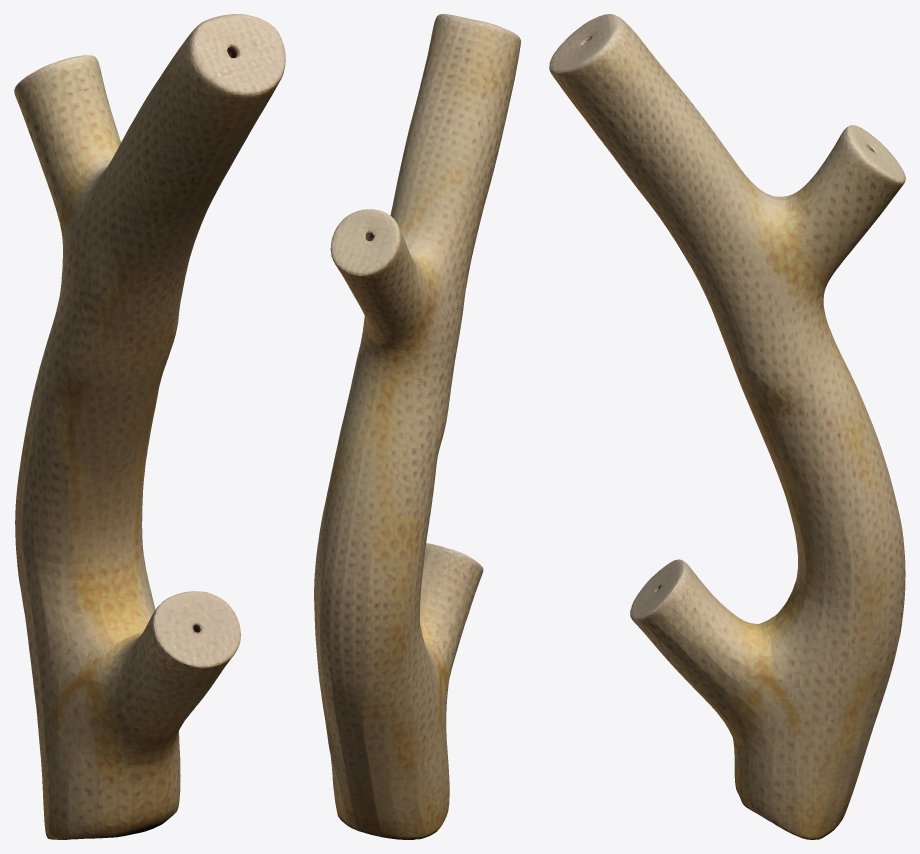
3 views of the same model, side by side, from view 1: azimuth 30°, elevation 25°; view 2: azimuth 150°, elevation 25°; view 3: azimuth 270°, elevation 25° (orthographic). The views are drawn at different scales.
Parts seen in each view (by area): view 1: world; view 2: world; view 3: world.
Part boxes in pixels (x1=…): world: x1=14, y1=14, x2=285, y2=839; world: x1=314, y1=14, x2=520, y2=839; world: x1=549, y1=14, x2=905, y2=839.
Bounding box in the file's own units: 0.1437 × 0.9964 × 0.4022.
Materials: 1 (1 with a texture image).
